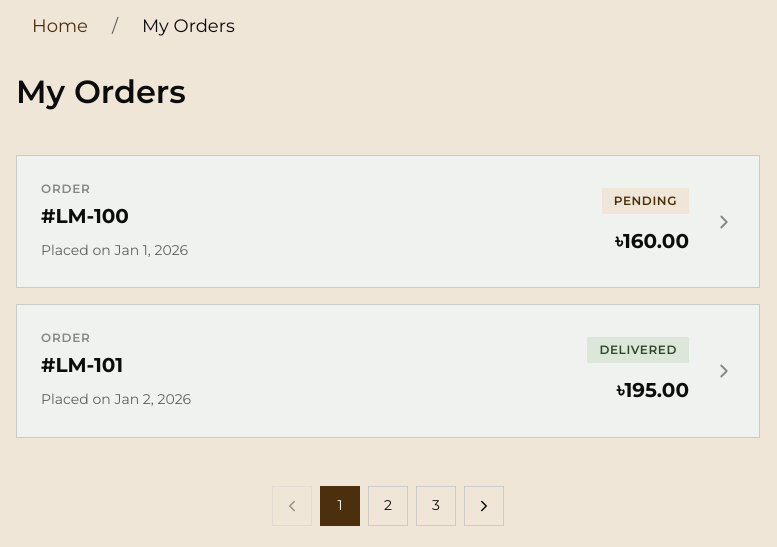
Scenario: Orders flow (integration) › lists orders and paginates through pages
Check: the text "#LM-100" is shown, box x1=41 y1=204 x2=129 y2=228
// Go to next page
Click the button named "next page" at (484, 506), box x1=464 y1=486 x2=504 y2=526
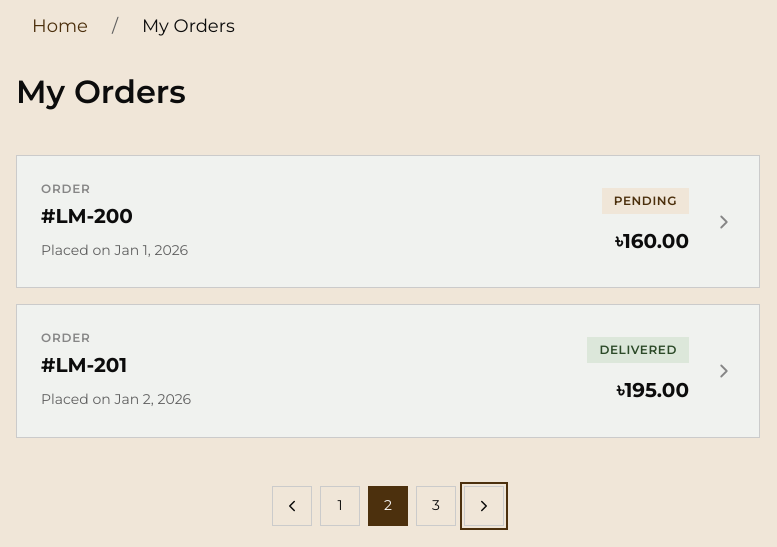
Check: the text "#LM-200" is shown, box x1=41 y1=204 x2=133 y2=228
